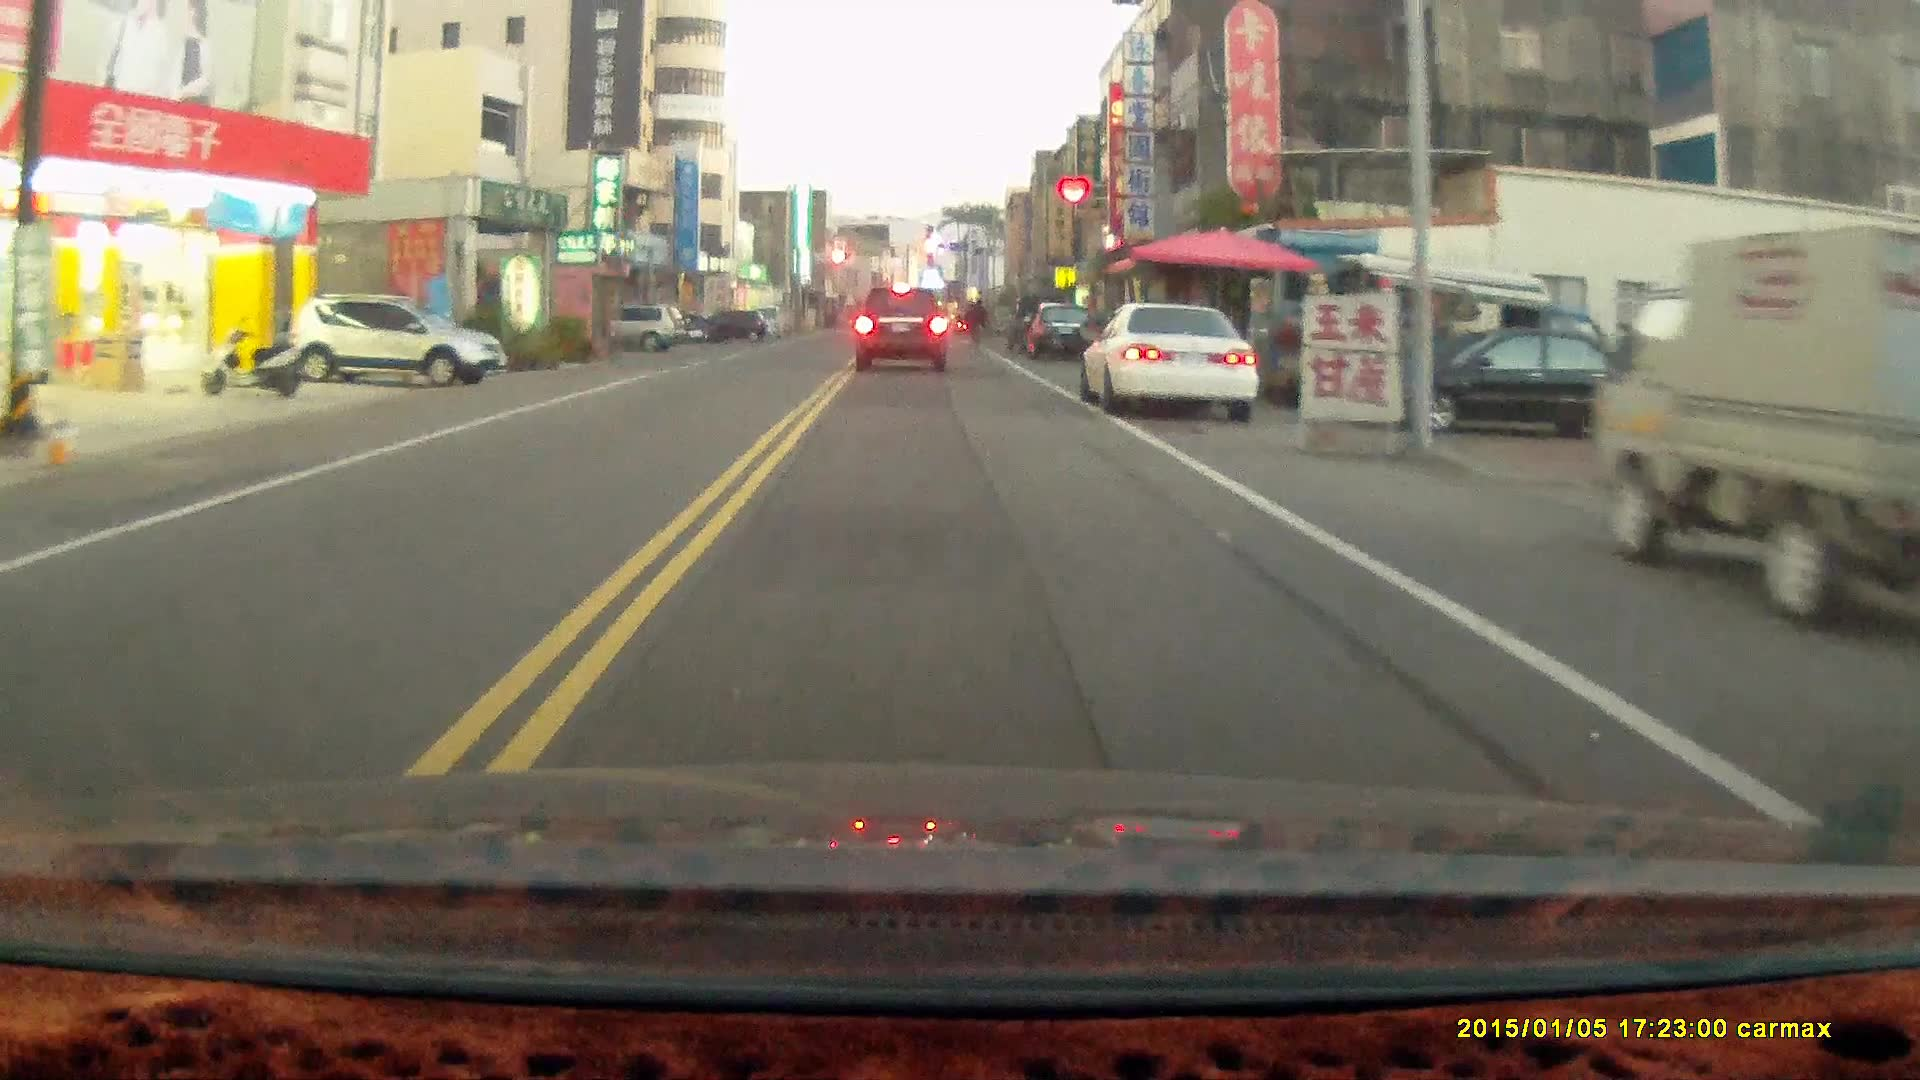rider: (967, 296, 988, 345)
vehicle: (1596, 222, 1920, 642), (1358, 320, 1679, 446), (1086, 299, 1262, 424), (281, 294, 503, 390), (851, 284, 952, 376), (593, 301, 690, 349), (1027, 303, 1099, 360)
